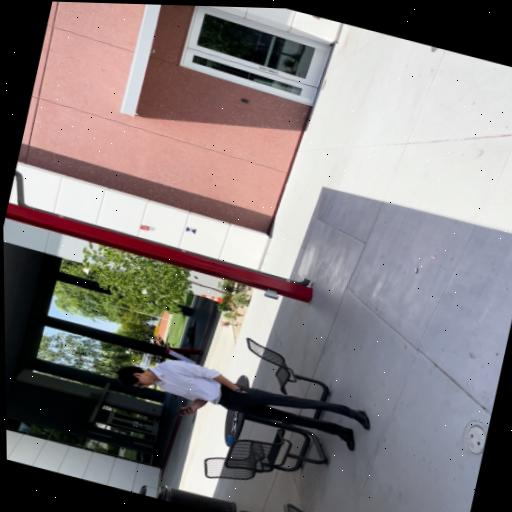target2: (186, 226, 197, 234)
